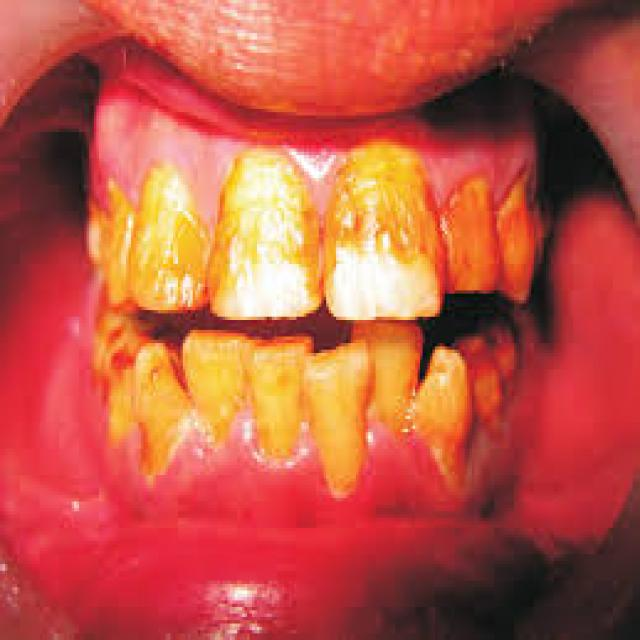Tooth Discoloration: (92, 134, 538, 503)
